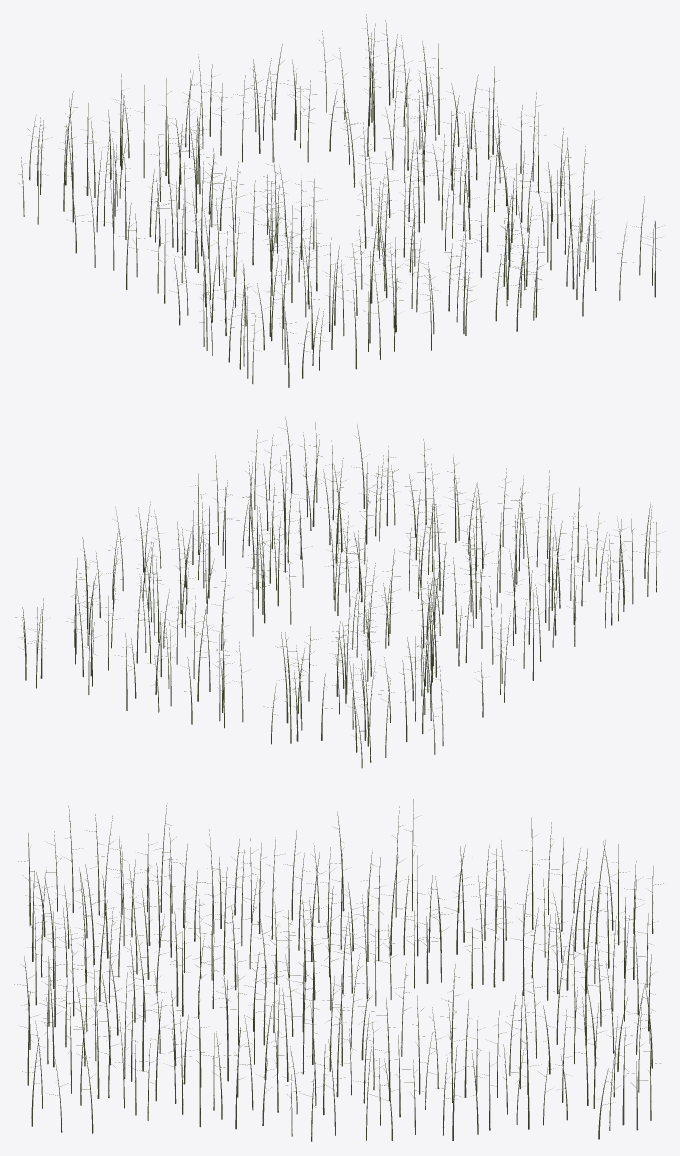
File: bamboo_culms_3.glb
3 views of the same model, one above another, from view 1: azimuth 30°, elevation 25°; view 2: azimuth 150°, elevation 25°; view 3: azimuth 270°, elevation 25° (orthographic). The views are drawn at different scales.
Parts seen in each view (by area): view 1: bamboo_culms_30, bamboo_culms_31, bamboo_culms_32, bamboo_culms_33; view 2: bamboo_culms_30, bamboo_culms_31, bamboo_culms_32, bamboo_culms_33; view 3: bamboo_culms_30, bamboo_culms_31, bamboo_culms_32, bamboo_culms_33.
Boxes of the visible parts, <box> form: bamboo_culms_30: <box>18,14,482,253</box>; bamboo_culms_31: <box>70,66,567,293</box>; bamboo_culms_32: <box>160,137,587,355</box>; bamboo_culms_33: <box>220,190,664,387</box>; bamboo_culms_30: <box>15,554,483,768</box>; bamboo_culms_31: <box>78,495,536,702</box>; bamboo_culms_32: <box>154,455,624,661</box>; bamboo_culms_33: <box>242,416,660,611</box>; bamboo_culms_30: <box>454,817,663,1139</box>; bamboo_culms_31: <box>291,799,468,1141</box>; bamboo_culms_32: <box>137,803,304,1136</box>; bamboo_culms_33: <box>14,805,158,1133</box>.
Size of the model in its own units: 82.86 by 17.95 by 93.87.
1 material, 1 textured.
